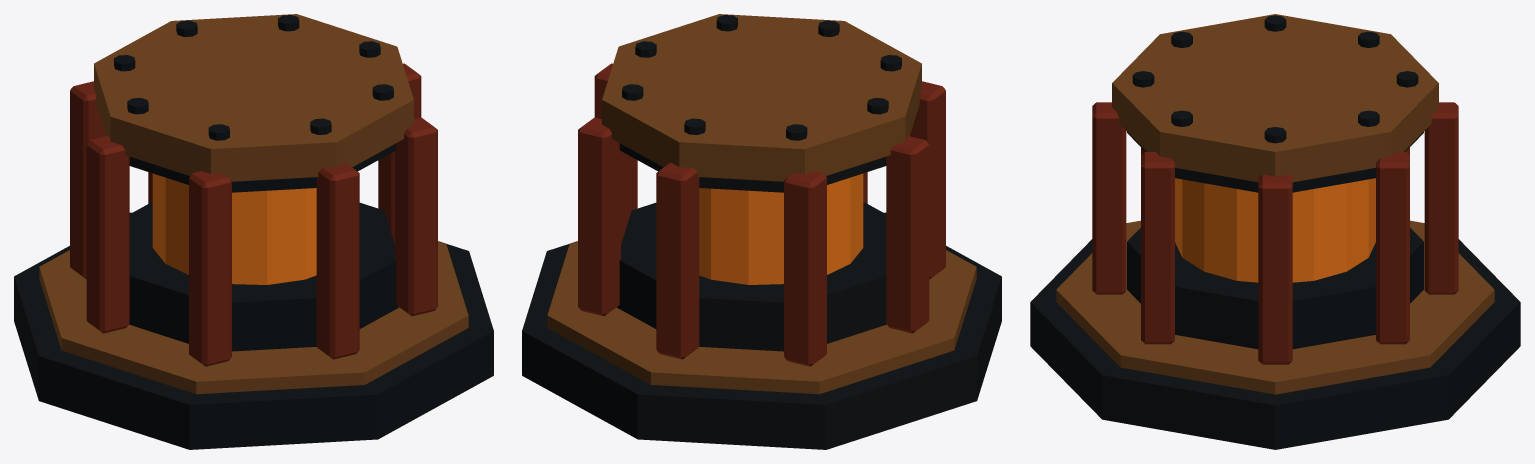
The model's file is forge-core-plinth.glb.
The picture shows the model from 3 angles, left to right: view 1: azimuth 30°, elevation 25°; view 2: azimuth 150°, elevation 25°; view 3: azimuth 270°, elevation 25°; orthographic projection.
Parts seen in each view (by area): view 1: forge-core-plinth; view 2: forge-core-plinth; view 3: forge-core-plinth.
Boxes of the visible parts, bbox=[...] form: forge-core-plinth: bbox=[14, 14, 493, 449]; forge-core-plinth: bbox=[522, 14, 1001, 449]; forge-core-plinth: bbox=[1030, 14, 1520, 449].
Size of the model in its own units: 3.6 by 2.2 by 3.6.
1 material, 1 textured.
